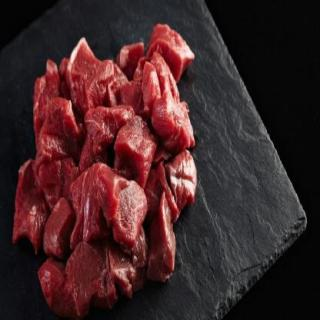Daging Sapi: (16, 24, 198, 319), (145, 57, 197, 151), (67, 243, 119, 318), (71, 164, 118, 241), (69, 38, 115, 112), (16, 160, 46, 257), (116, 115, 156, 187), (151, 23, 197, 84), (147, 193, 177, 285), (41, 95, 82, 162), (112, 177, 148, 247), (39, 260, 72, 317), (45, 200, 76, 260), (169, 157, 199, 213)
